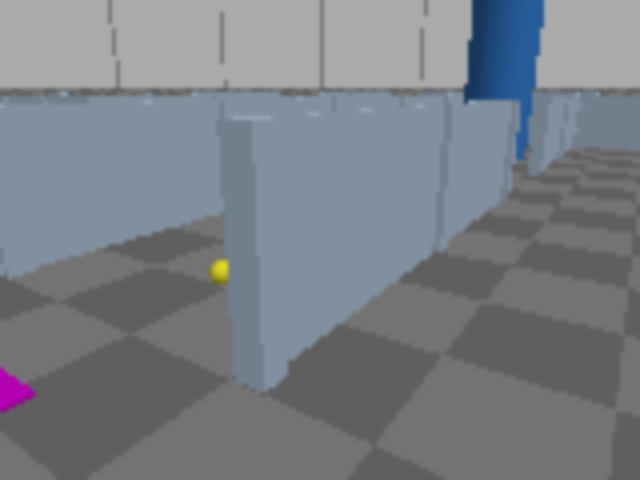goal_zone: (0, 335, 37, 478)
puck: (203, 256, 240, 291)
